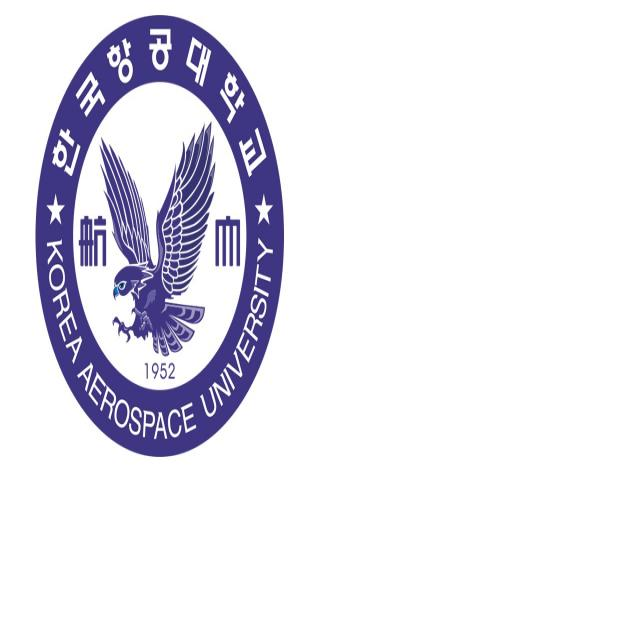KAU_Marker: (34, 11, 289, 461)
